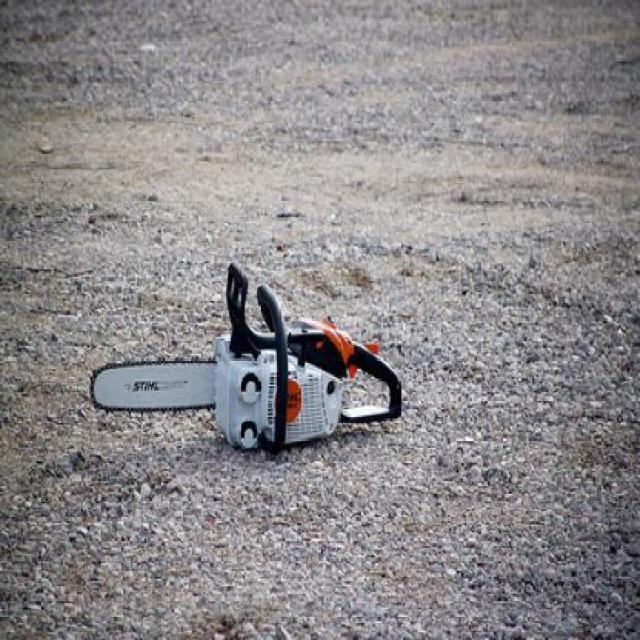Chainsaw: (85, 258, 408, 454)
